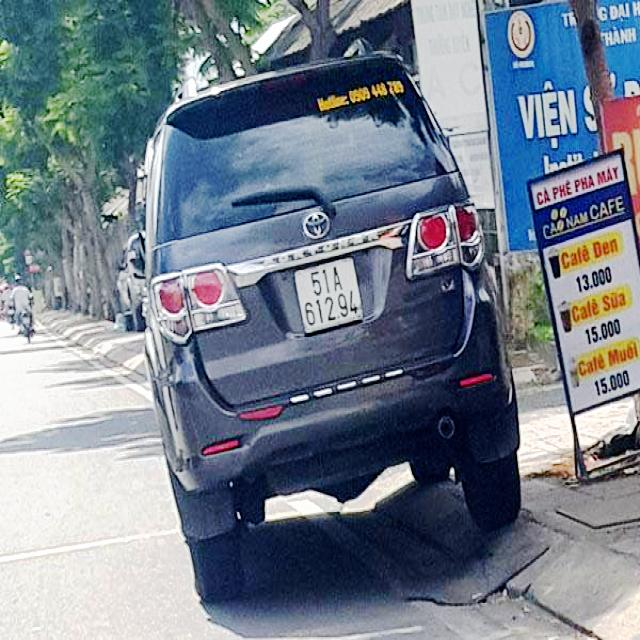license_plate: (295, 255, 365, 334)
